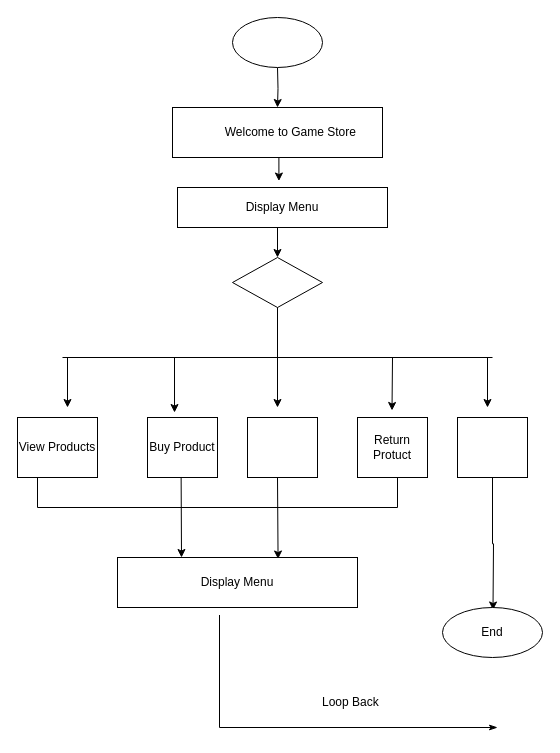
The diagram is 560 pixels wide and 753 high, and some of its shapes have lost their labels. The centre of each missing label's shape, as x and y in pixels:
Exit: pixel 492 447
Start: pixel 277 42
User Choice?: pixel 277 282
View Cart: pixel 282 447
